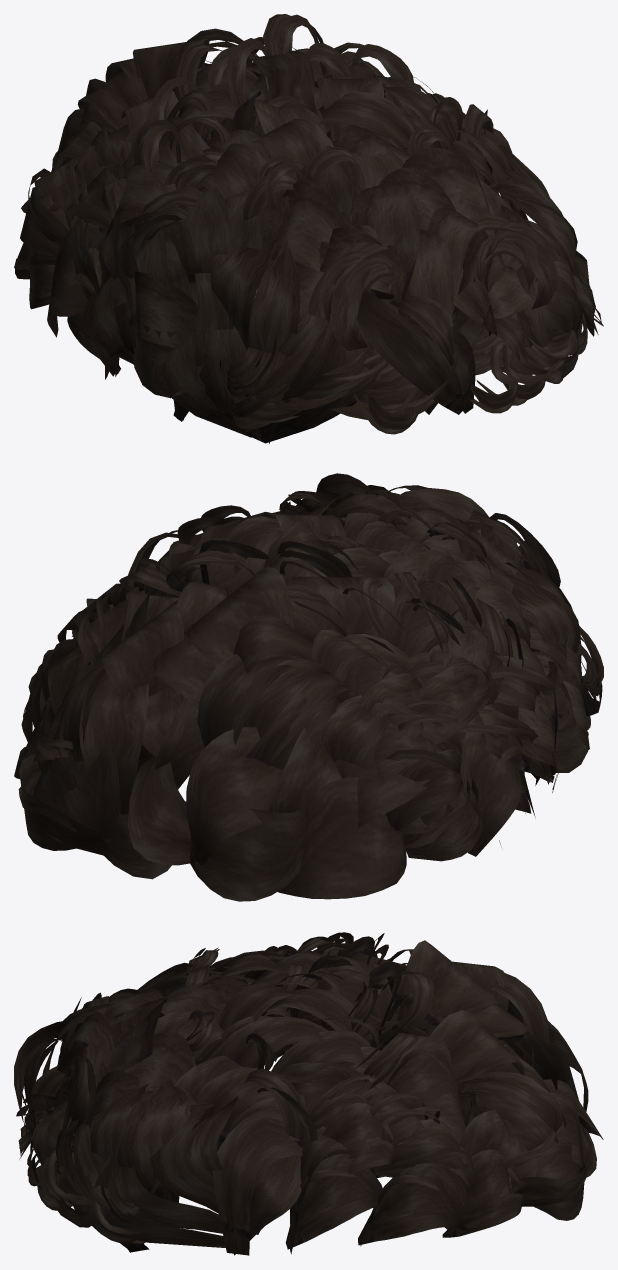
The model's file is Oval_Curly_01_real.glb.
3 renders of one model, top to bottom at view 1: azimuth 30°, elevation 25°; view 2: azimuth 150°, elevation 25°; view 3: azimuth 270°, elevation 25°, orthographic. The views are drawn at different scales.
Visible parts, largest first — view 1: oval curly 01 french crop_; view 2: oval curly 01 french crop_; view 3: oval curly 01 french crop_.
Part boxes in pixels (x1,y1,x2,y2): oval curly 01 french crop_: [14, 14, 603, 443]; oval curly 01 french crop_: [14, 473, 603, 901]; oval curly 01 french crop_: [14, 932, 603, 1255].
Size of the model in its own units: 0.19 by 0.1097 by 0.2411.
Materials: 1 (1 with a texture image).
